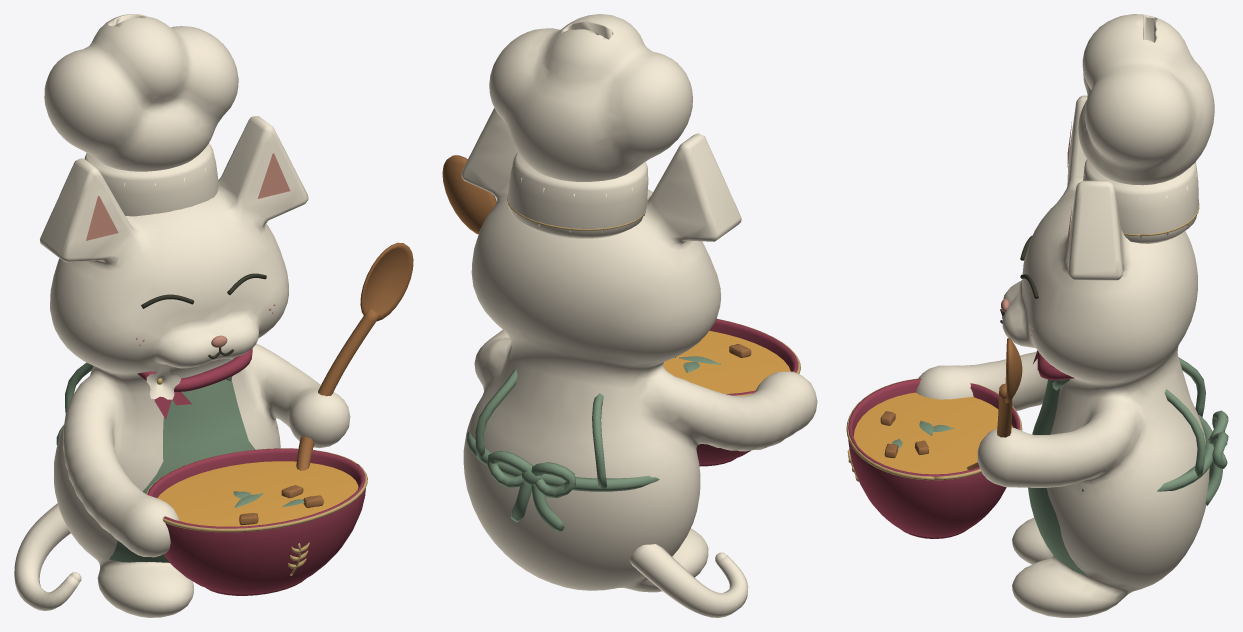
The model's file is food.v1.glb.
The picture shows the model from 3 angles, left to right: view 1: azimuth 30°, elevation 25°; view 2: azimuth 150°, elevation 25°; view 3: azimuth 270°, elevation 25°; orthographic projection. The views are drawn at different scales.
Parts seen in each view (by area): view 1: Food | Porcelain, Food | Garnet, Food | Honey, Food | Celadon, Food | Walnut, Food | Rose, Food | Gold, Food | Ink; view 2: Food | Porcelain, Food | Celadon, Food | Honey, Food | Walnut, Food | Garnet, Food | Gold; view 3: Food | Porcelain, Food | Garnet, Food | Honey, Food | Celadon, Food | Walnut, Food | Gold.
Part boxes in pixels (x1,y1,x2,y2): Food | Porcelain: (14,14,350,617); Food | Garnet: (137,348,365,595); Food | Honey: (157,461,358,526); Food | Celadon: (56,357,304,562); Food | Walnut: (239,242,413,525); Food | Rose: (86,153,290,347); Food | Gold: (146,378,367,575); Food | Ink: (141,273,266,358); Food | Porcelain: (461,14,817,617); Food | Celadon: (466,356,720,532); Food | Honey: (663,330,790,393); Food | Walnut: (442,155,751,357); Food | Garnet: (675,319,798,466); Food | Gold: (507,194,800,396); Food | Porcelain: (916,14,1214,617); Food | Garnet: (848,350,1074,538); Food | Honey: (853,392,1012,474); Food | Celadon: (891,357,1228,575); Food | Walnut: (880,338,1022,469); Food | Gold: (846,203,1199,481).
Bounding box in the file's own units: 0.6292 × 1 × 0.6207.
